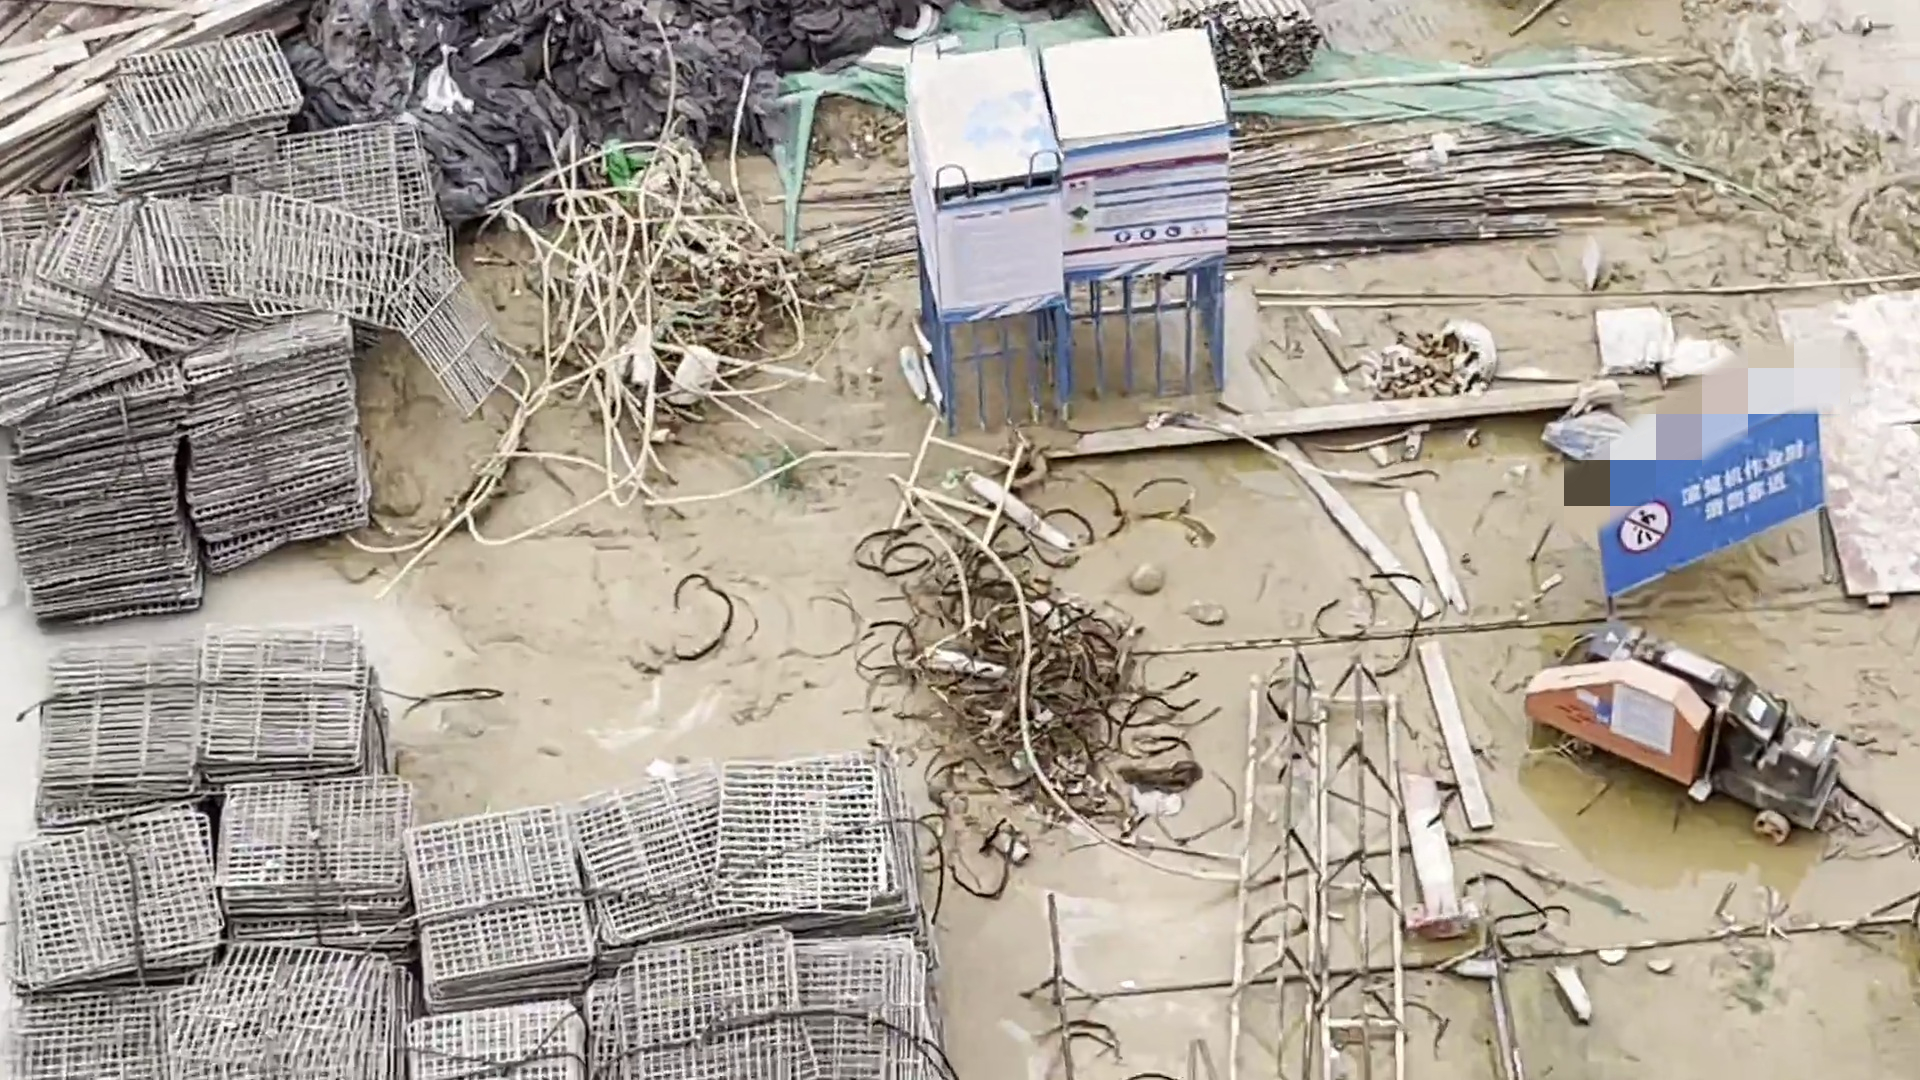slogan: (1609, 404, 1813, 575)
